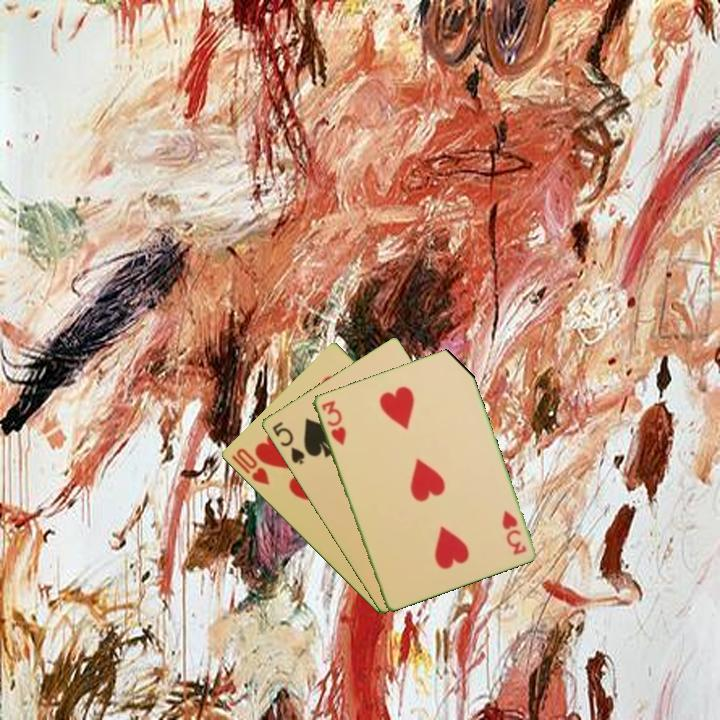10h: (227, 445, 272, 488)
3h: (318, 397, 349, 448), (498, 507, 529, 558)
5s: (268, 418, 307, 467)
